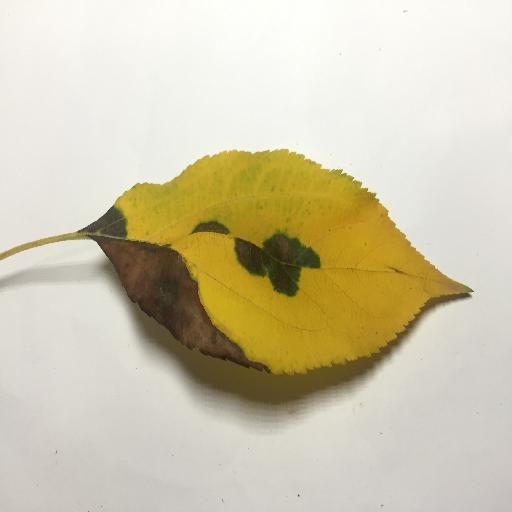Brown_Spot: (102, 235, 262, 375), (229, 238, 311, 295), (182, 222, 232, 234)
